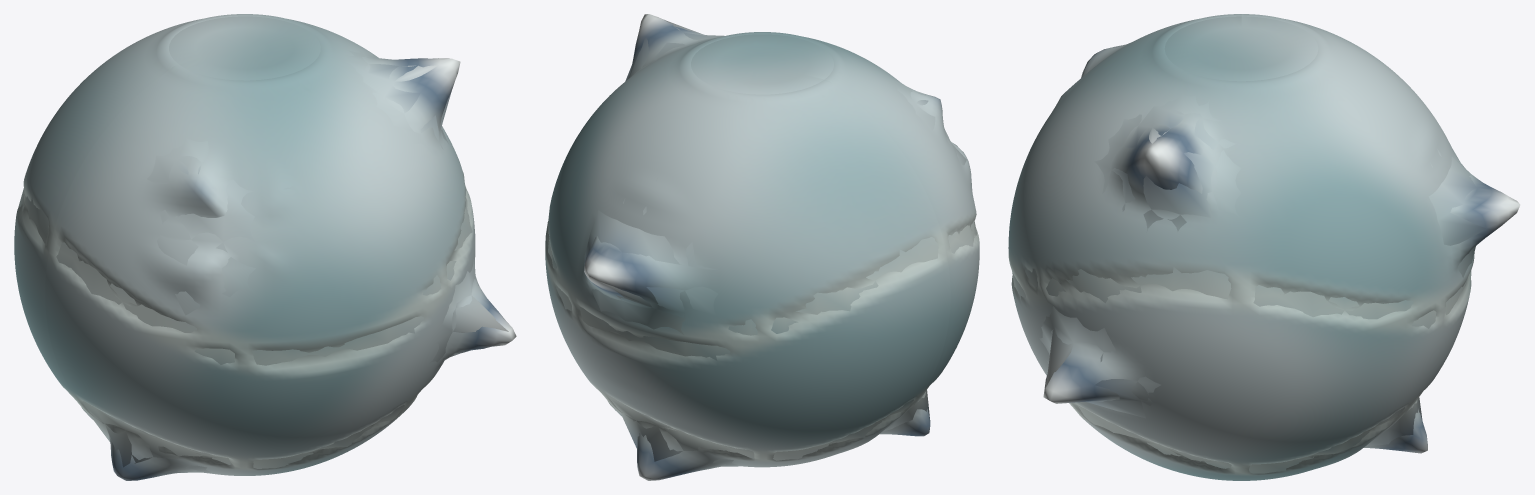
Rendered from prism.glb.
3 renders of one model, left to right at view 1: azimuth 30°, elevation 25°; view 2: azimuth 150°, elevation 25°; view 3: azimuth 270°, elevation 25°, orthographic. The views are drawn at different scales.
Parts seen in each view (by area): view 1: Terrain_Full.002, Terrain_Distant.002; view 2: Terrain_Full.002, Terrain_Distant.002; view 3: Terrain_Full.002, Terrain_Distant.002.
Part boxes in pixels (<box>): Terrain_Full.002: <box>14,14,516,480</box>; Terrain_Distant.002: <box>18,16,508,474</box>; Terrain_Full.002: <box>545,14,979,480</box>; Terrain_Distant.002: <box>548,20,976,468</box>; Terrain_Full.002: <box>1008,14,1520,480</box>; Terrain_Distant.002: <box>1012,16,1485,473</box>.
Bounding box in the file's own units: 168 × 163 × 184.
